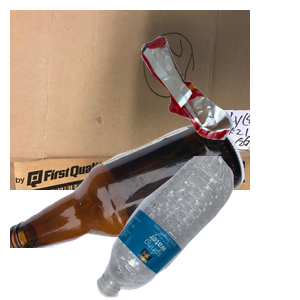cardboard: (10, 10, 250, 190)
glass: (10, 120, 247, 300)
plastic: (94, 156, 300, 300)
trash: (139, 34, 300, 167)
